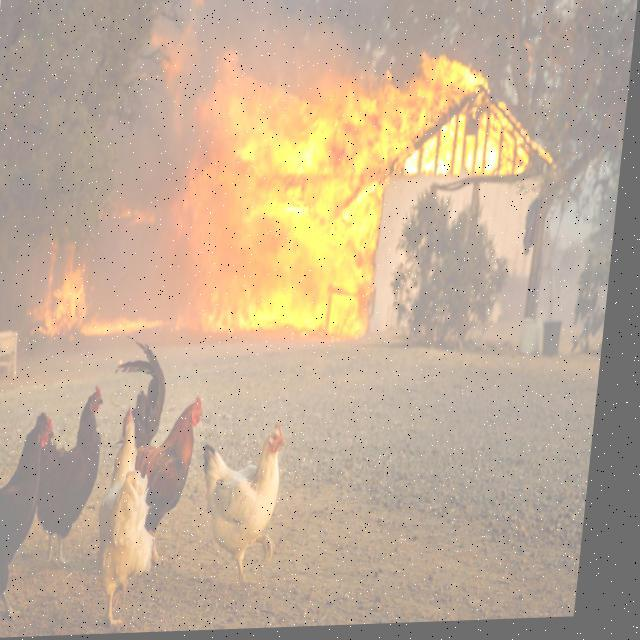Fire: (174, 6, 585, 352), (35, 240, 182, 346)
